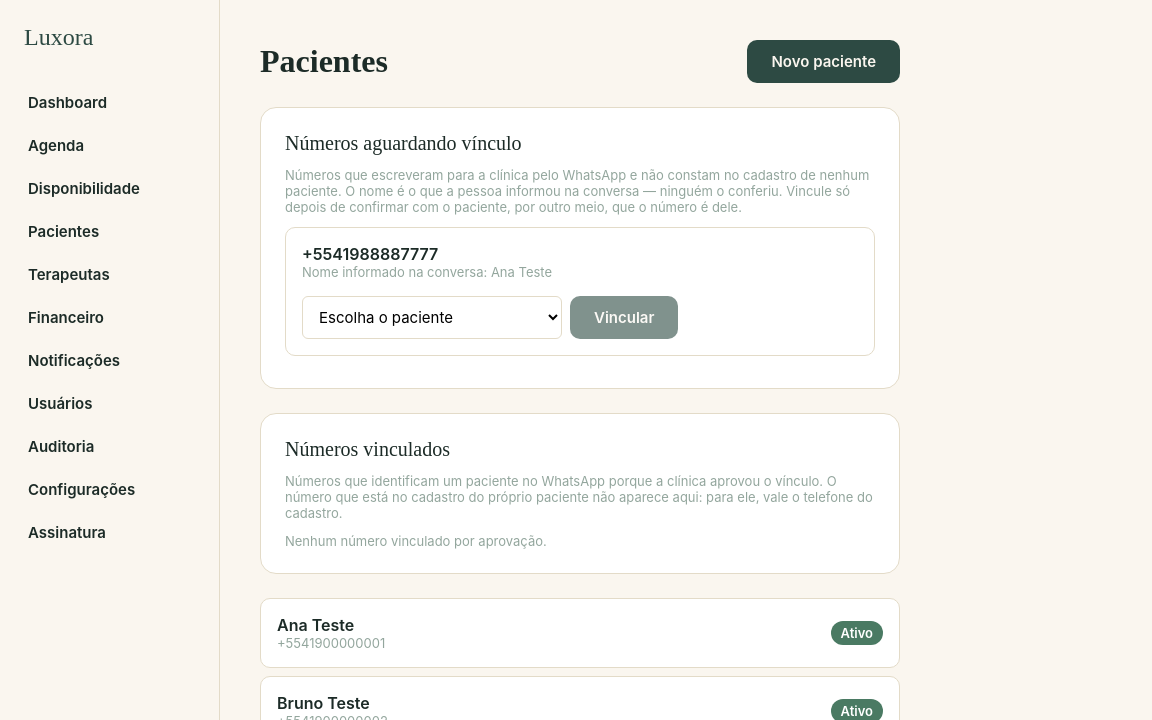
Test: PacientesPage — números aguardando vínculo (ADR-0063, AD-038) › escolher o paciente e clicar em Vincular ainda não vincula: pede a confirmação, dizendo o que muda
The width and height of the screenshot is (1152, 720).
Expected: the text "+5541988887777" is shown, [302,244,438,264]
Expected: the text "Bruno Teste" is shown, [277,693,370,713]
Select "Ana Teste — +5541900000001" in the dropdown named "Paciente para o número +5541988887777". click: (432, 318)
box: [302,296,562,339]
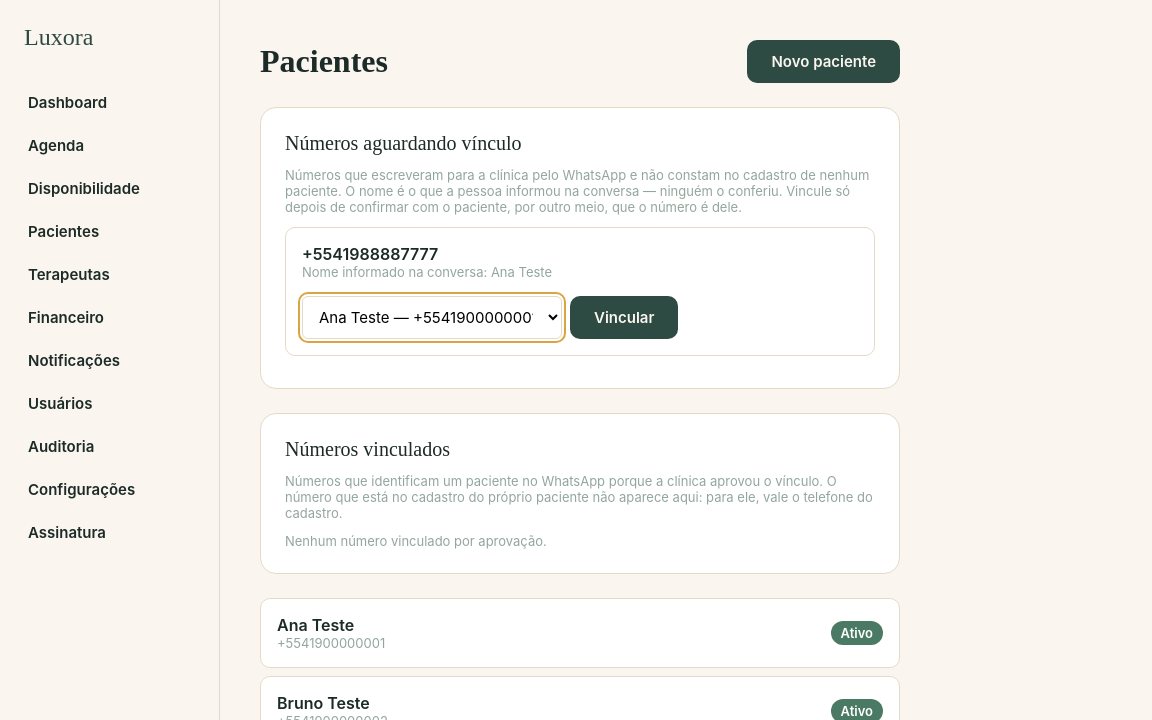
Click the button "Vincular". click: (624, 318)
box: [570,296,678,339]
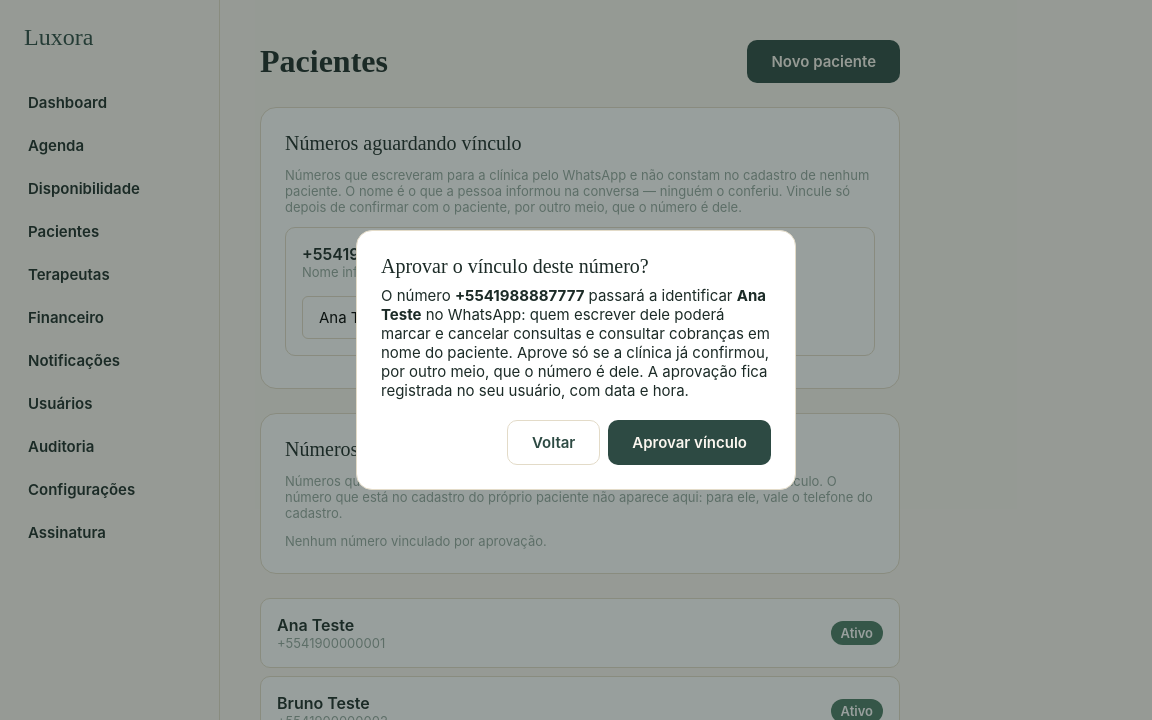
Now the dialog "Aprovar o vínculo deste número?" shows "+5541988887777", box [455,286,584,305]
Now the dialog "Aprovar o vínculo deste número?" shows "Ana Teste", box [381,286,766,324]
Now the dialog "Aprovar o vínculo deste número?" shows "por outro meio", box [381,305,770,400]
Note: Voltar desiste sem enviar nada.
Click the button "Voltar". click: (554, 442)
box: [507,420,600,465]
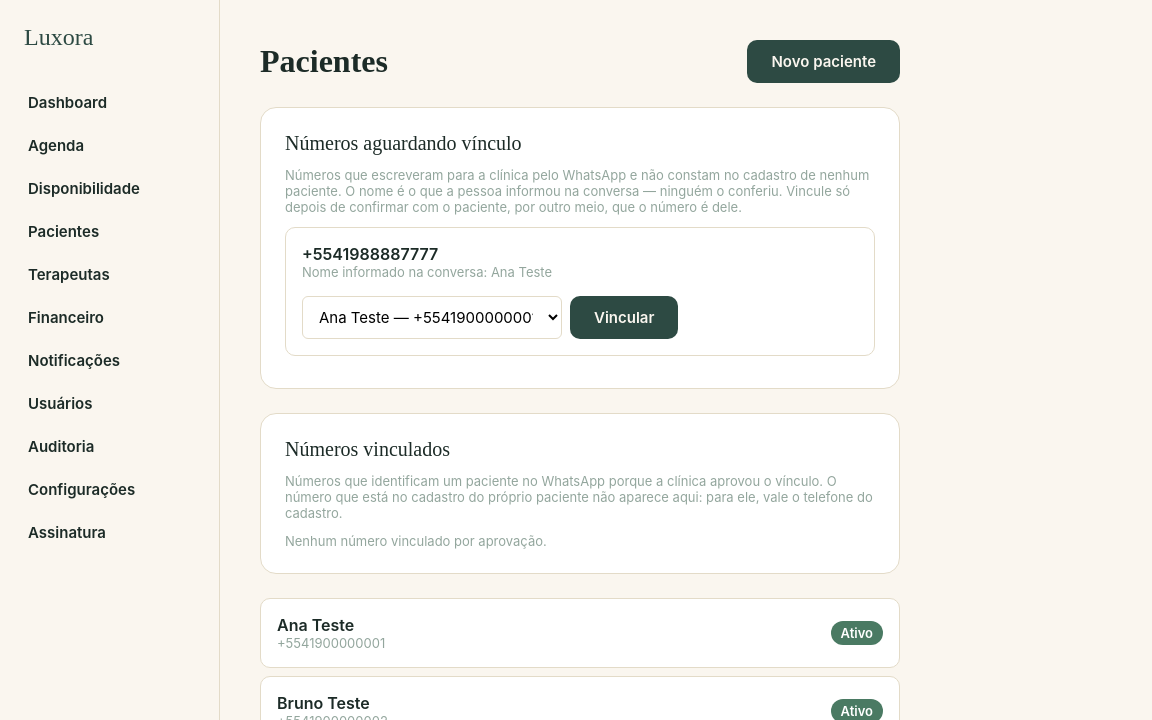
Now the dialog is gone
